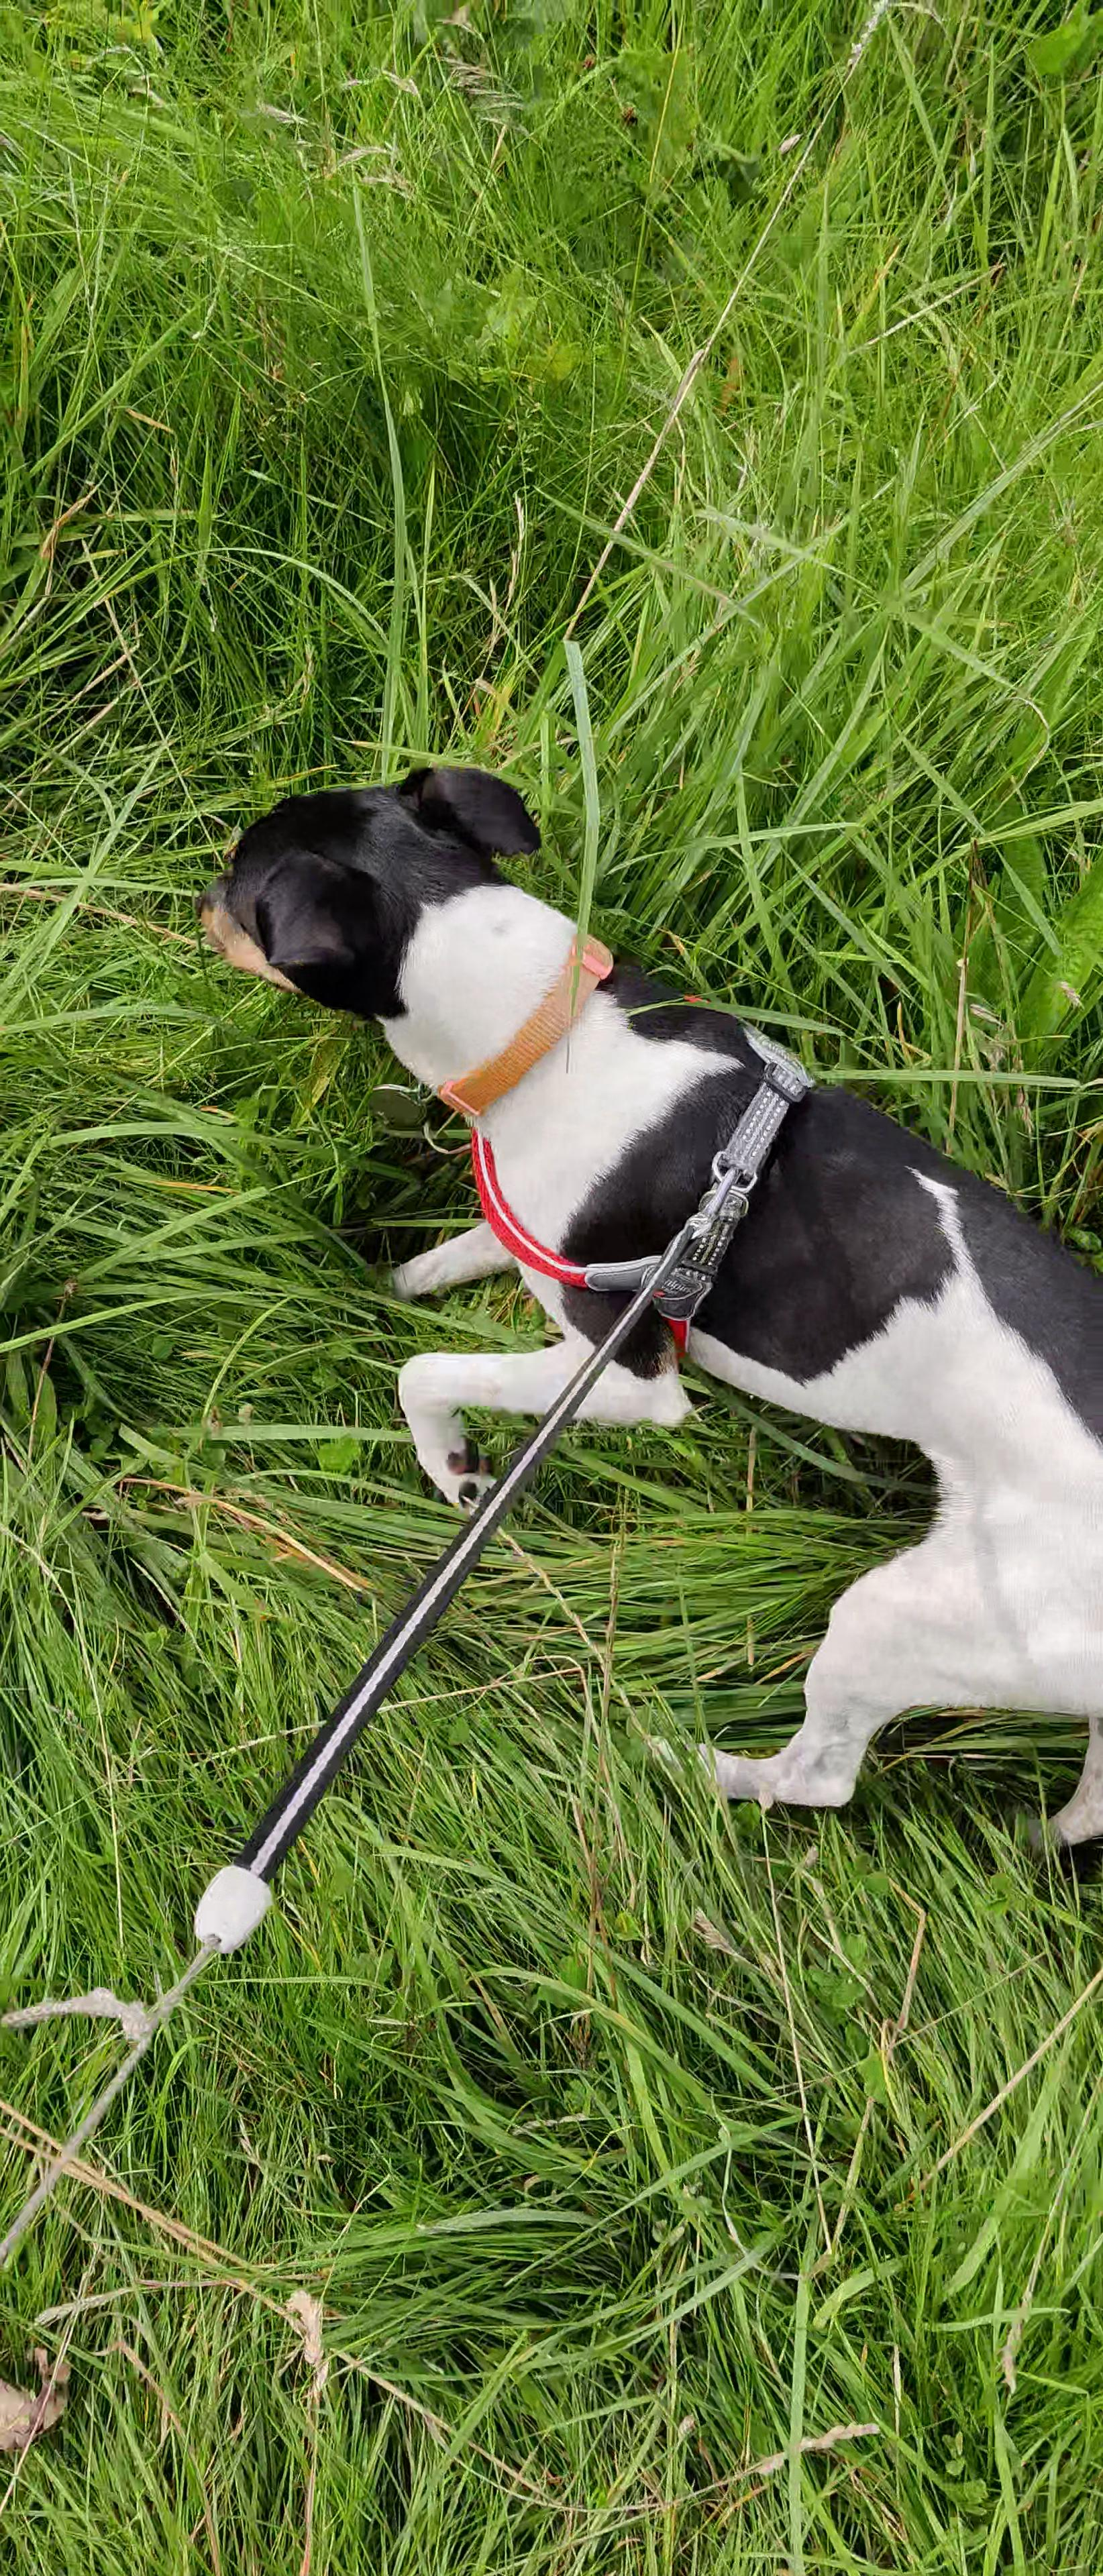Dog: (179, 754, 1103, 1851)
